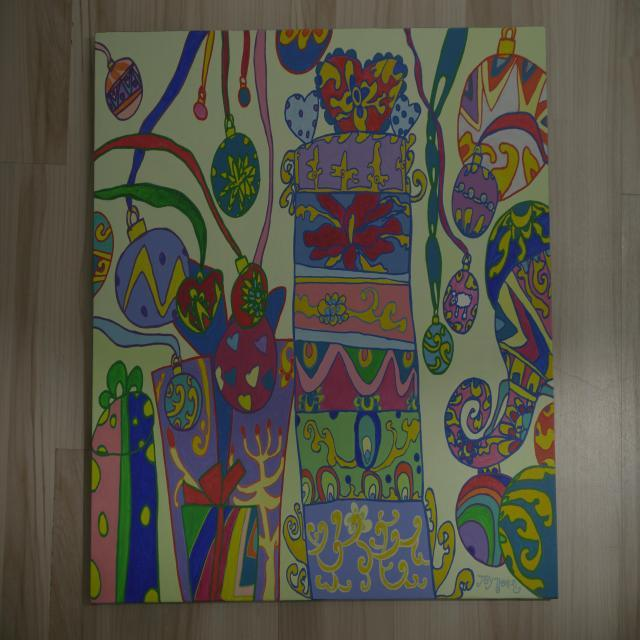painting: (90, 28, 557, 603)
